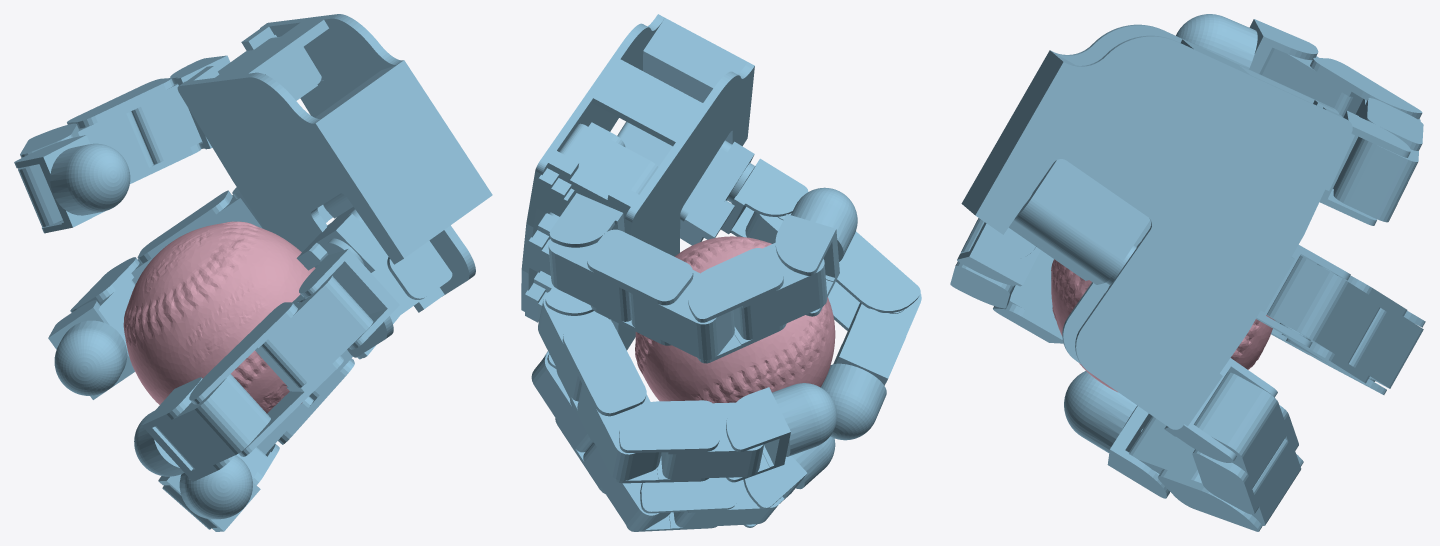
The picture shows the model from 3 angles, left to right: view 1: azimuth 30°, elevation 25°; view 2: azimuth 150°, elevation 25°; view 3: azimuth 270°, elevation 25°; orthographic projection. The views are drawn at different scales.
Parts seen in each view (by area): view 1: world, baseball.stl; view 2: world, baseball.stl; view 3: world, baseball.stl.
Part boxes in pixels (x1,y1,x2,y2): world: (14,14,492,531); baseball.stl: (123,221,315,413); world: (521,14,921,531); baseball.stl: (635,236,835,403); world: (950,14,1425,531); baseball.stl: (1051,259,1274,392).
Size of the model in its own units: 0.1482 by 0.1867 by 0.1517.
